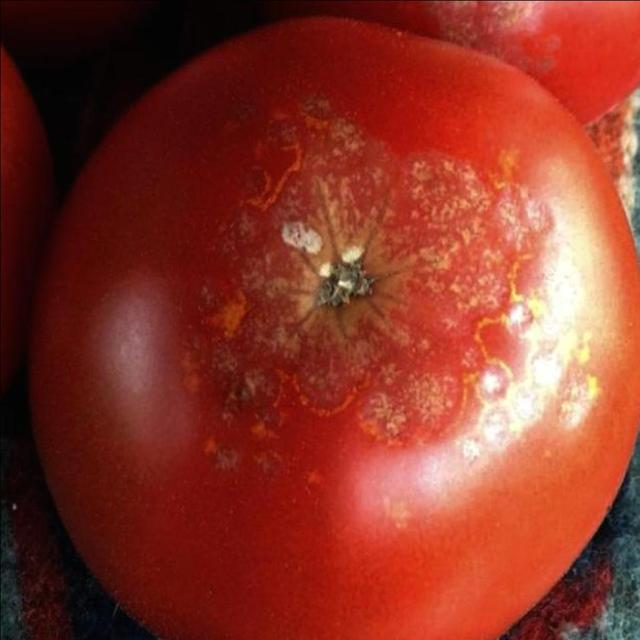Blossom End Rot Fruit: (132, 56, 369, 326)
